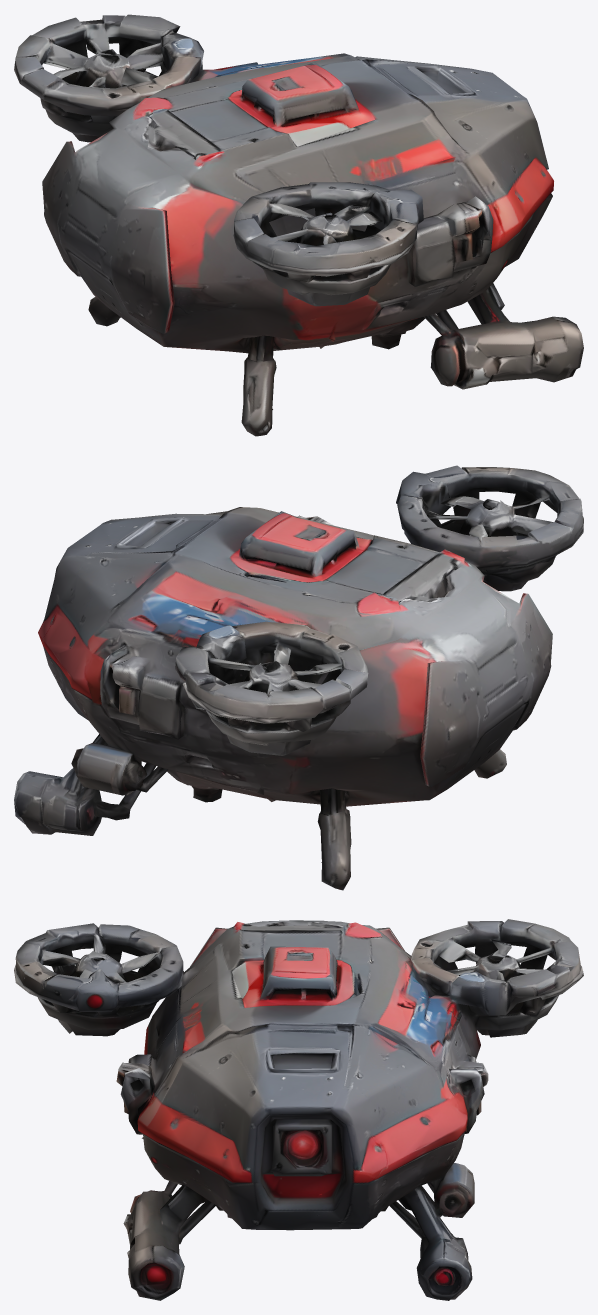
File: sdp_drone_combat.glb
3 views of the same model, one above another, from view 1: azimuth 30°, elevation 25°; view 2: azimuth 150°, elevation 25°; view 3: azimuth 270°, elevation 25° (orthographic). The views are drawn at different scales.
Parts seen in each view (by area): view 1: tripo_node_cf2ee752-bbe8-4087-9a3b-91e3beeae3dc; view 2: tripo_node_cf2ee752-bbe8-4087-9a3b-91e3beeae3dc; view 3: tripo_node_cf2ee752-bbe8-4087-9a3b-91e3beeae3dc.
Part boxes in pixels (x1,y1,x2,y2): tripo_node_cf2ee752-bbe8-4087-9a3b-91e3beeae3dc: (14,14,583,436); tripo_node_cf2ee752-bbe8-4087-9a3b-91e3beeae3dc: (14,465,583,890); tripo_node_cf2ee752-bbe8-4087-9a3b-91e3beeae3dc: (14,919,583,1300).
Bounding box in the file's own units: 0.7852 × 0.4903 × 0.9799.
Materials: 1 (1 with a texture image).
